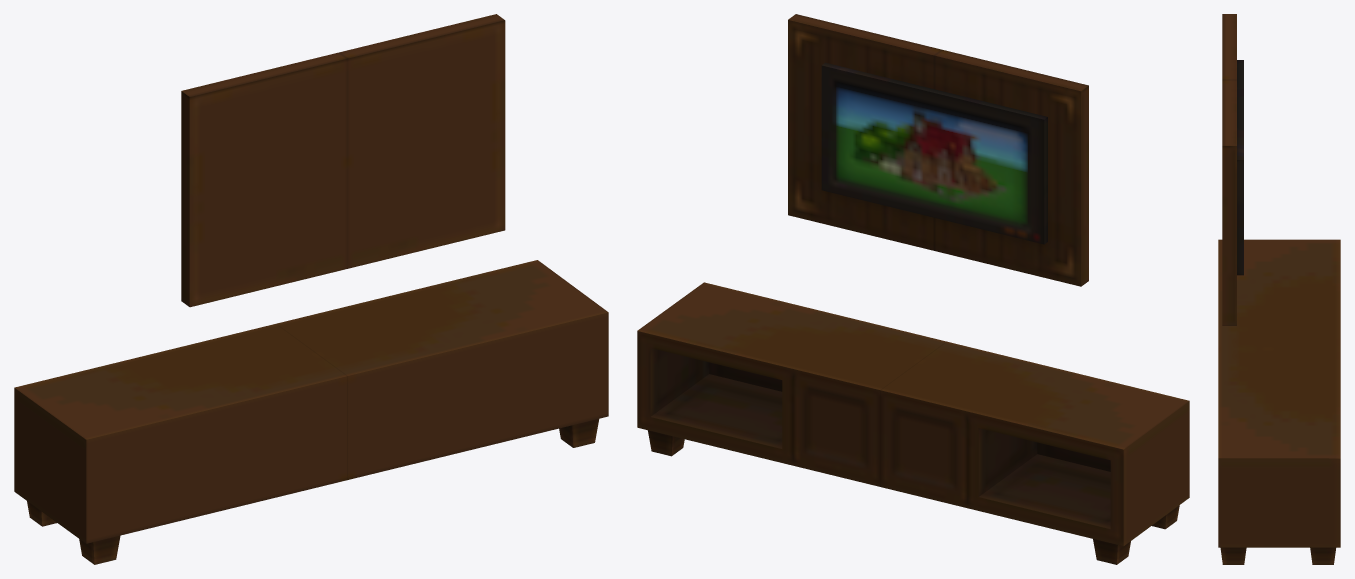
The picture shows the model from 3 angles, left to right: view 1: azimuth 30°, elevation 25°; view 2: azimuth 150°, elevation 25°; view 3: azimuth 270°, elevation 25°; orthographic projection. The views are drawn at different scales.
Parts seen in each view (by area): view 1: TV_03; view 2: TV_03; view 3: TV_03.
Boxes of the visible parts, bbox=[...] form: TV_03: bbox=[14, 14, 608, 564]; TV_03: bbox=[637, 14, 1189, 564]; TV_03: bbox=[1218, 14, 1340, 564].
Bounding box in the file's own units: 93.65 × 76.07 × 22.17.
1 material, 1 textured.
